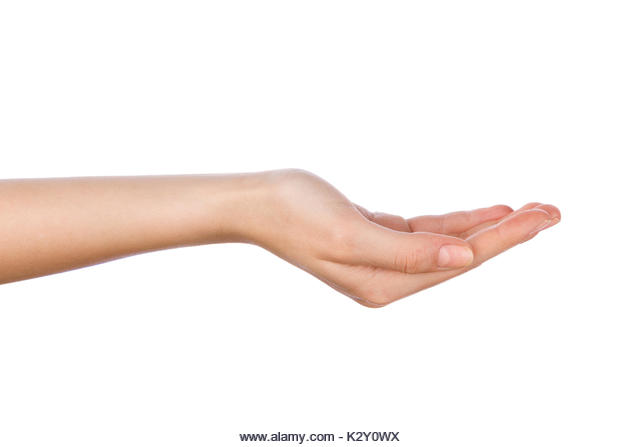hand: (220, 147, 584, 322)
